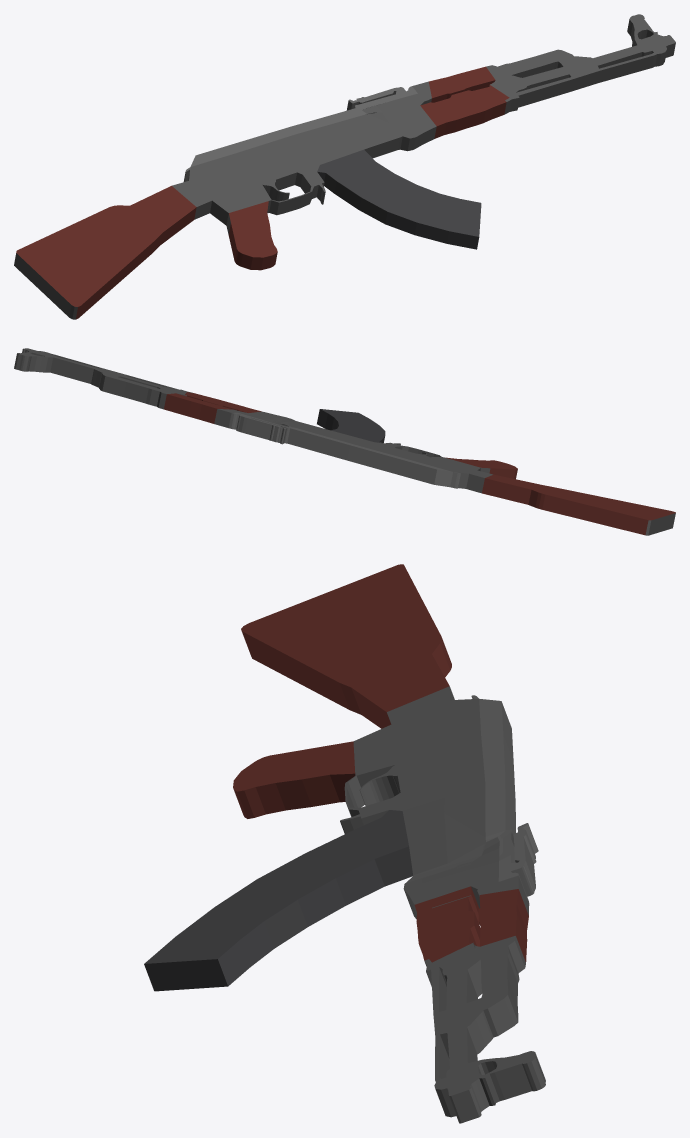
The picture shows the model from 3 angles, top to bottom: view 1: azimuth 30°, elevation 25°; view 2: azimuth 150°, elevation 25°; view 3: azimuth 270°, elevation 25°; orthographic projection. The views are drawn at different scales.
Visible parts, largest first — view 1: Cube.001, Cube.002, Cube.003, Cube.004; view 2: Cube.001, Cube.002, Cube.004, Cube.003; view 3: Cube.001, Cube.002, Cube.003, Cube.004.
Boxes of the visible parts, x1,y1,x2,y2 form: Cube.001: [14, 14, 675, 319]; Cube.002: [16, 66, 509, 319]; Cube.003: [317, 149, 481, 249]; Cube.004: [183, 86, 417, 181]; Cube.001: [14, 348, 675, 535]; Cube.002: [164, 392, 675, 535]; Cube.004: [228, 412, 460, 488]; Cube.003: [317, 409, 385, 443]; Cube.001: [340, 686, 545, 1123]; Cube.002: [233, 564, 528, 962]; Cube.003: [144, 810, 412, 991]; Cube.004: [471, 695, 538, 902].
Size of the model in its own units: 443 by 58.73 by 126.
